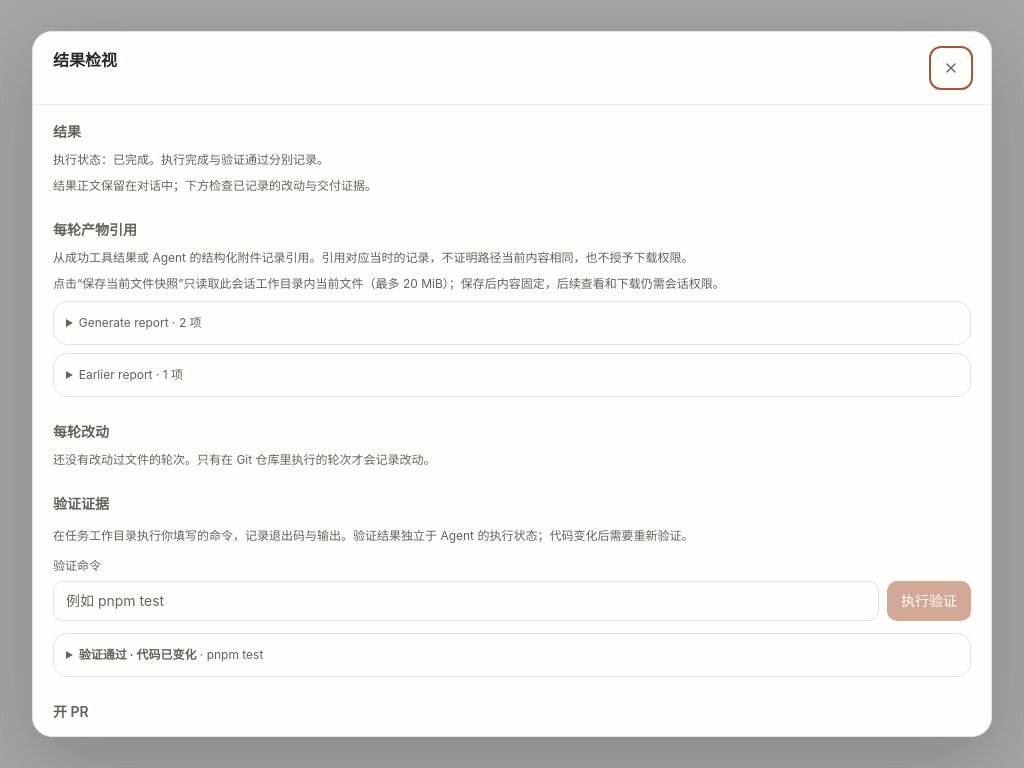
Scenario: work item delivery panel › reads per-turn artifact evidence through the panel and opens its recorded source without a file download link
This screenshot has width=1024, height=768.
Click the heading "Generate report · 2 项" at (140, 322), box top-left (79, 315), bottom-right (202, 330)
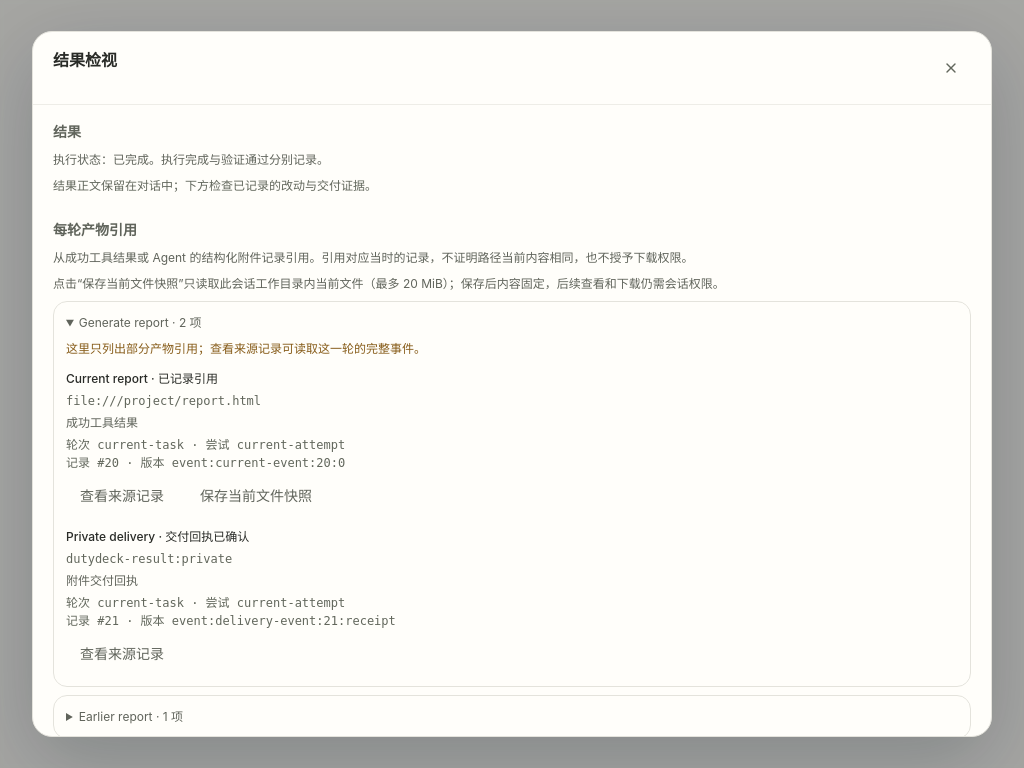
Check: the text "Current report · 已记录引用" is shown, box top-left (66, 371), bottom-right (218, 386)
Check: the text "Private delivery · 交付回执已确认" is shown, box top-left (66, 529), bottom-right (249, 544)
Check: the text "版本 event:current-event:20:0" is shown, box top-left (66, 438), bottom-right (345, 470)
Click the button "查看来源记录" below "event:current-event:20:0" at (122, 496), box top-left (66, 476), bottom-right (178, 516)
(page scrolled)
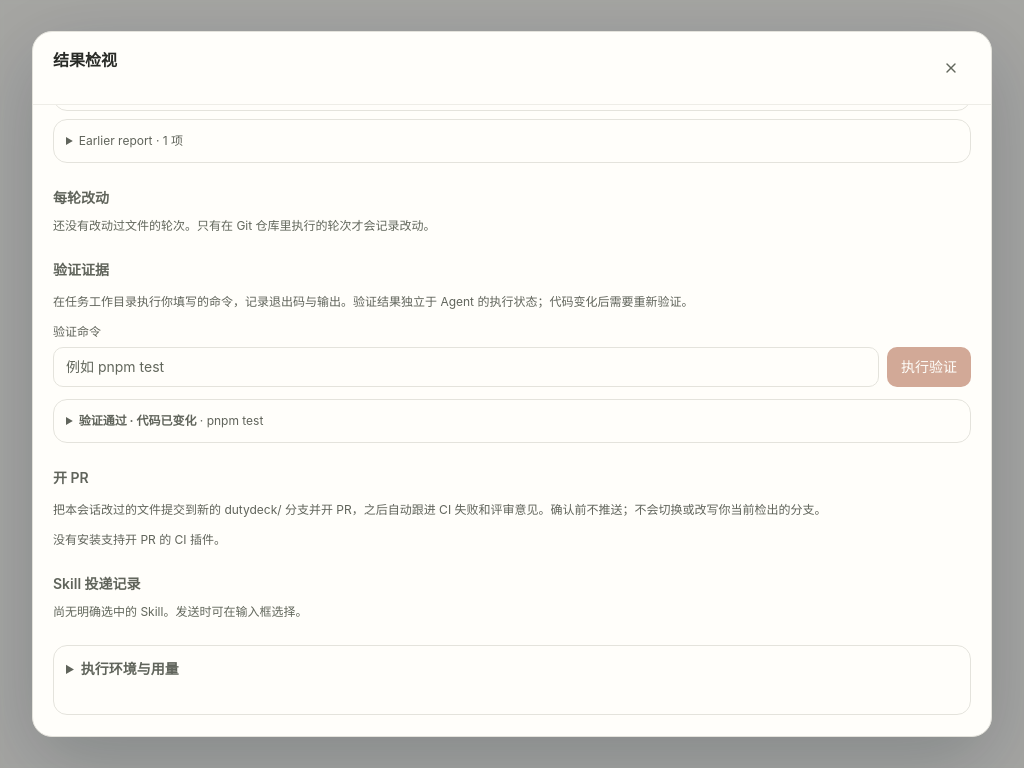
Check: the text "验证通过 · 代码已变化" is shown, box top-left (79, 413), bottom-right (196, 428)
